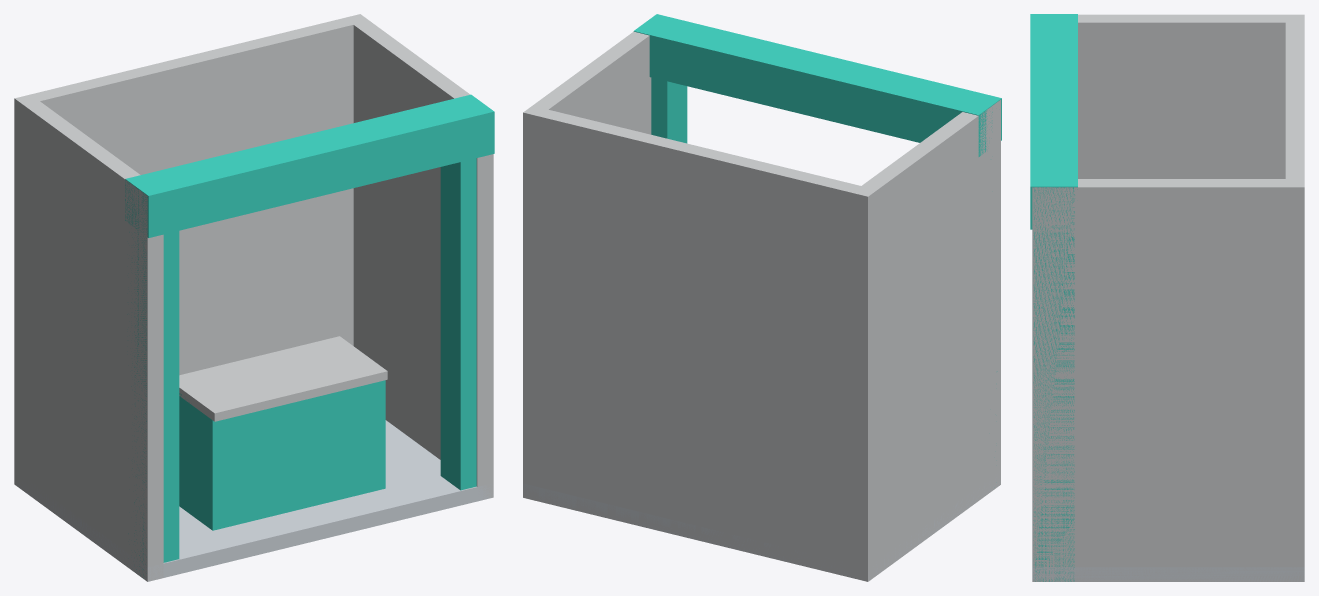
3 views of the same model, side by side, from view 1: azimuth 30°, elevation 25°; view 2: azimuth 150°, elevation 25°; view 3: azimuth 270°, elevation 25° (orthographic). The views are drawn at different scales.
Parts seen in each view (by area): view 1: Exhibition Booth Concept; view 2: Exhibition Booth Concept; view 3: Exhibition Booth Concept.
Boxes of the visible parts, left/top/right/bottom form: Exhibition Booth Concept: left=14, top=14, right=494, bottom=581; Exhibition Booth Concept: left=523, top=14, right=1001, bottom=581; Exhibition Booth Concept: left=1030, top=14, right=1304, bottom=581.
Size of the model in its own units: 3 by 3.2 by 2.01.
